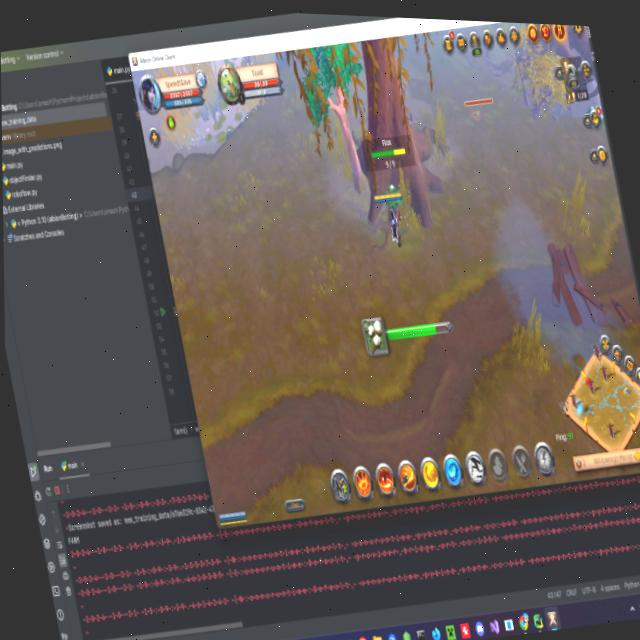hide: (375, 176, 411, 218), (579, 97, 607, 138)
red: (369, 185, 413, 254), (213, 498, 252, 533)
wisp caged: (295, 41, 383, 205)
